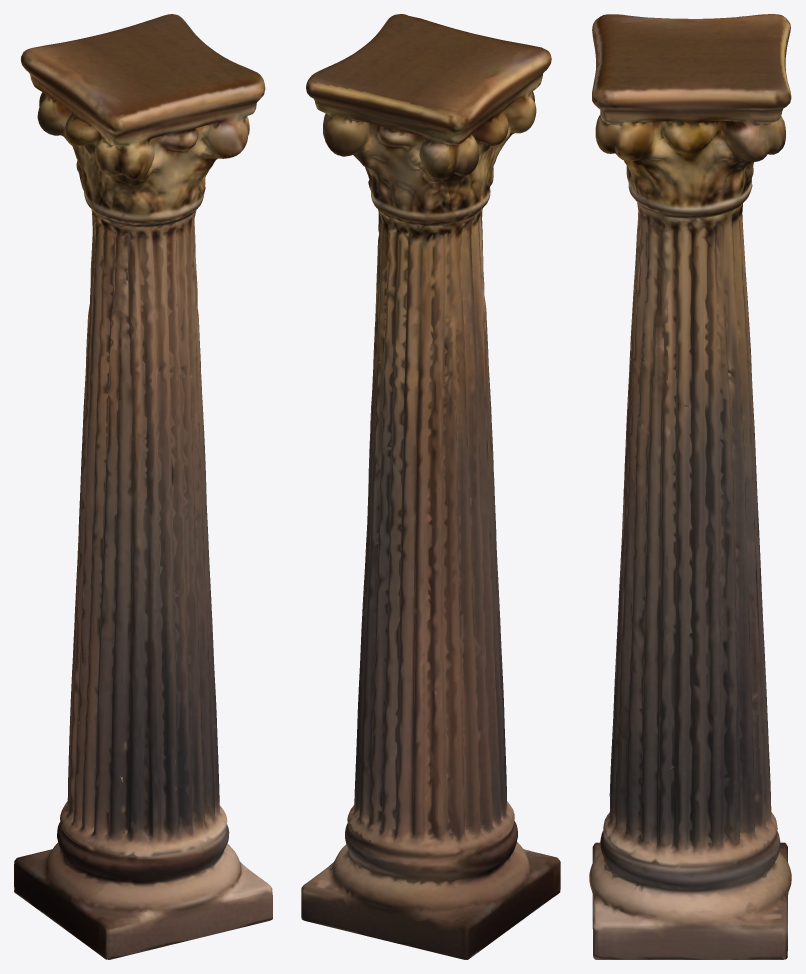
Rendered from bk-corinthian-column.glb.
3 views of the same model, side by side, from view 1: azimuth 30°, elevation 25°; view 2: azimuth 150°, elevation 25°; view 3: azimuth 270°, elevation 25° (orthographic). The views are drawn at different scales.
Parts seen in each view (by area): view 1: tmpnfdxmd0w.ply; view 2: tmpnfdxmd0w.ply; view 3: tmpnfdxmd0w.ply.
Boxes of the visible parts, x1,y1,x2,y2 form: tmpnfdxmd0w.ply: [14, 14, 272, 959]; tmpnfdxmd0w.ply: [301, 14, 560, 959]; tmpnfdxmd0w.ply: [589, 14, 791, 959].
Bounding box in the file's own units: 0.2075 × 1 × 0.2112.
1 material, 1 textured.
